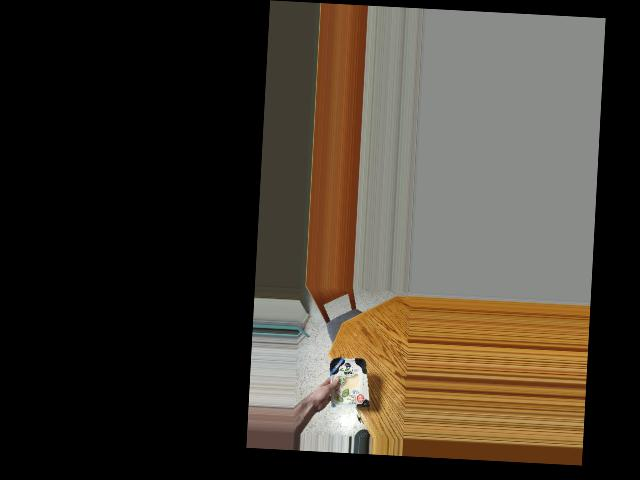cheese: (324, 350, 365, 417)
